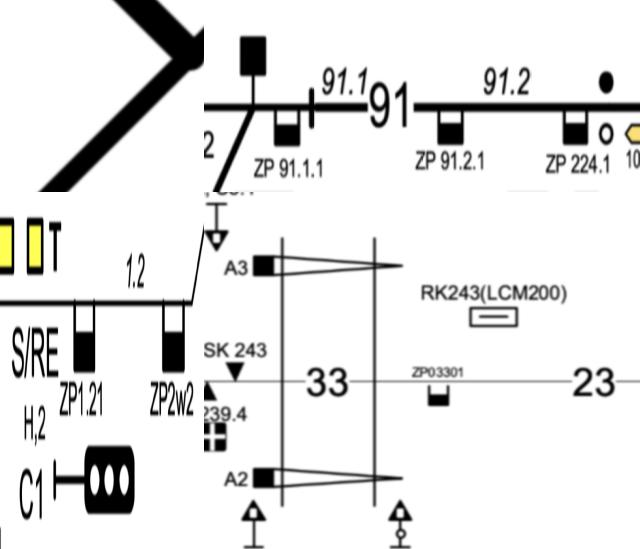mainsignal: (50, 437, 137, 526)
radzaehler: (0, 0, 204, 85), (364, 78, 421, 138), (159, 294, 186, 376), (434, 95, 470, 151), (72, 296, 96, 377), (559, 97, 592, 151), (269, 97, 303, 149), (424, 379, 461, 415)
tracknumber: (557, 359, 625, 406), (298, 356, 352, 402)
weiche: (234, 27, 270, 113)
